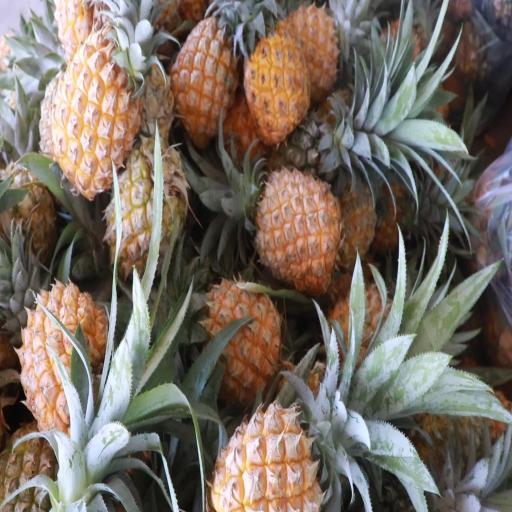------------------------------: (106, 149, 184, 278)
Pineapple - v8 v1: (54, 36, 141, 194), (25, 285, 109, 440), (209, 404, 322, 512), (254, 170, 339, 284), (202, 280, 284, 390), (172, 15, 242, 137), (244, 34, 309, 143)
